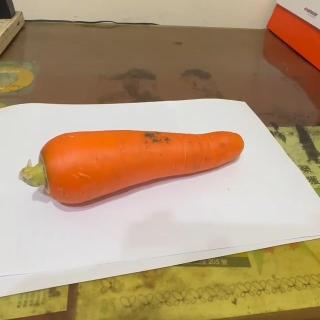carrot: (19, 127, 247, 205)
